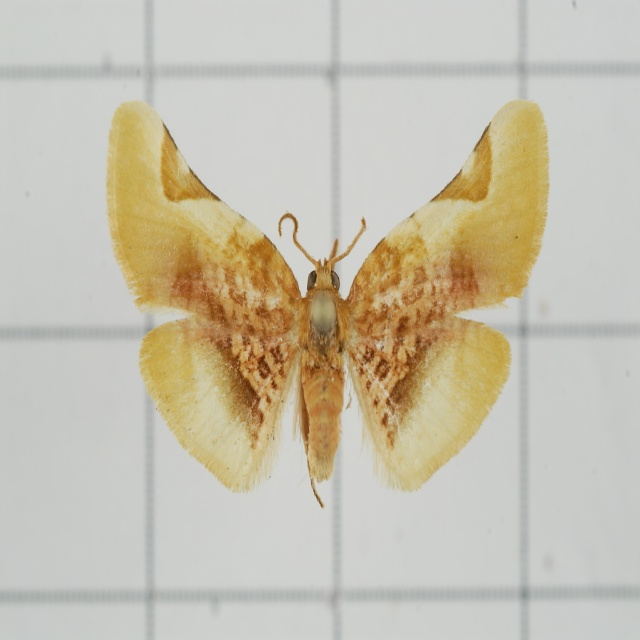Moths and butterflies: (102, 94, 553, 506)
